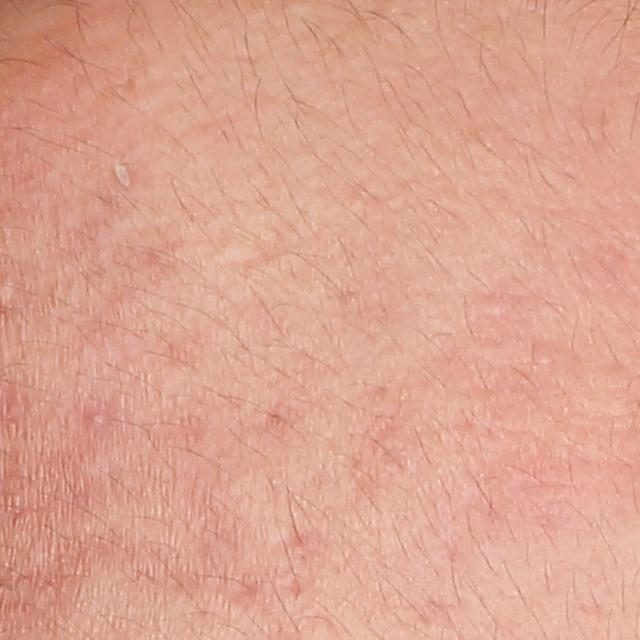comedo: (87, 404, 107, 425)
